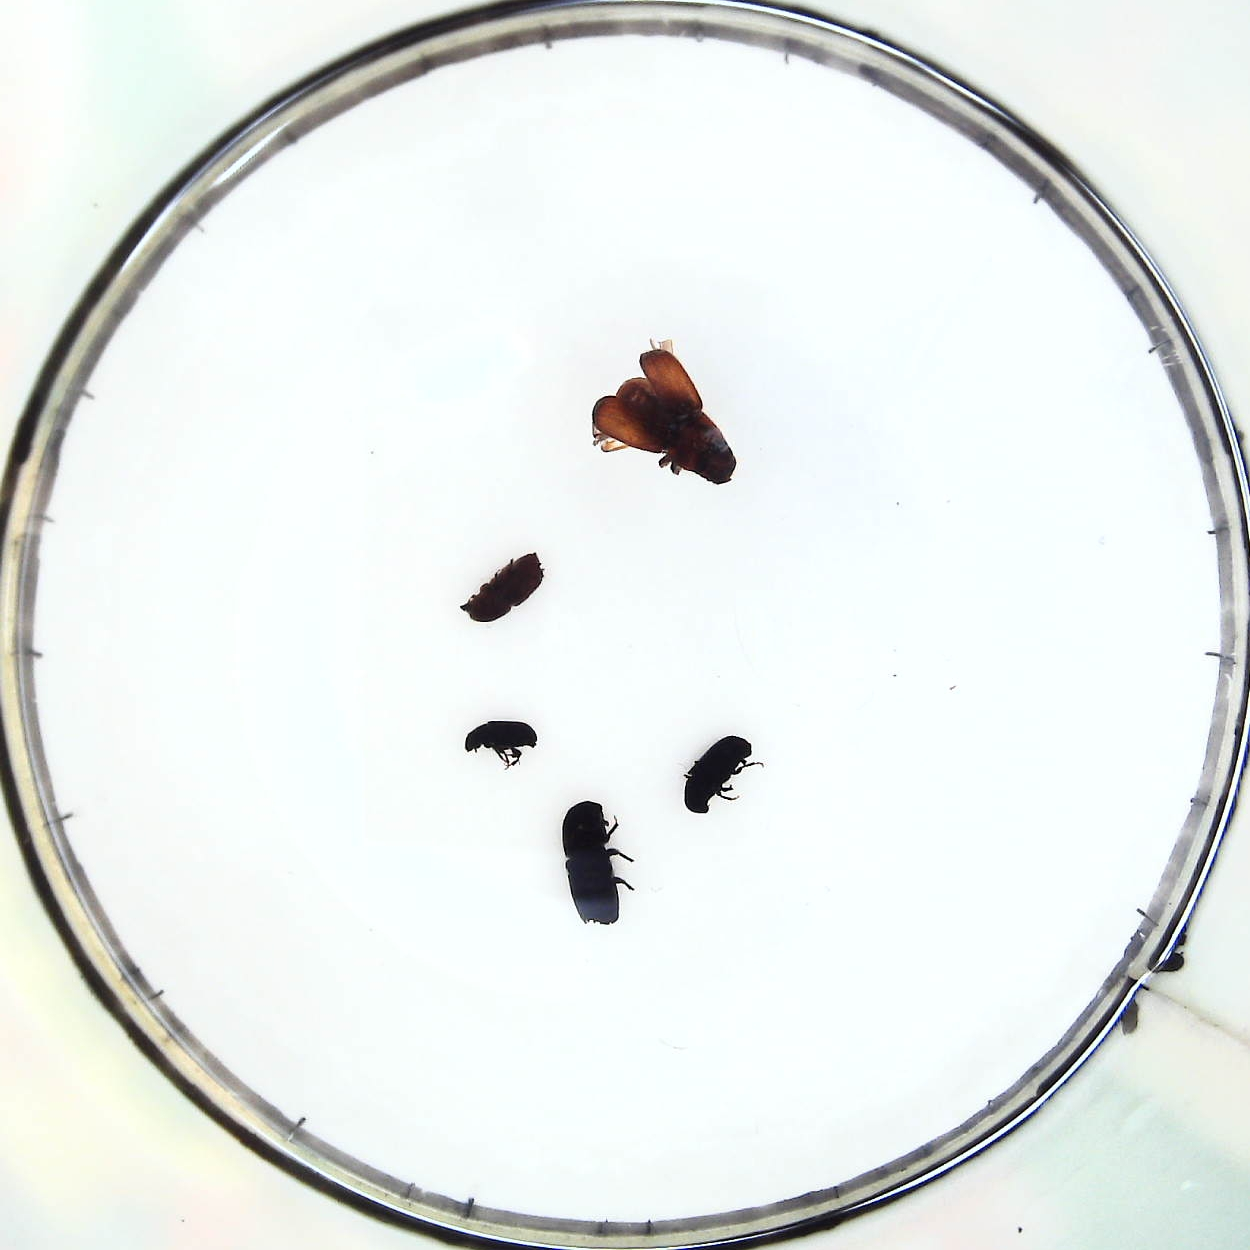Boerner: (557, 797, 628, 927)
Leconte: (588, 347, 736, 488)
Linnaeus: (464, 551, 544, 620)
armandi: (681, 736, 758, 815)
coleoptera: (461, 717, 539, 765)
